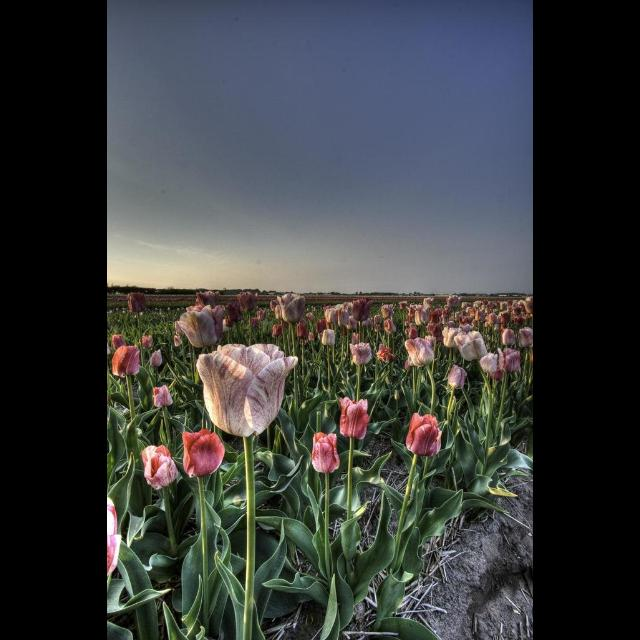Flower: (403, 294, 533, 381), (197, 342, 299, 432), (307, 295, 397, 347), (172, 430, 225, 478), (141, 440, 179, 488), (174, 308, 212, 352), (406, 413, 444, 455), (340, 398, 370, 446), (310, 431, 340, 474), (108, 497, 122, 579), (112, 340, 138, 380), (280, 292, 306, 322), (352, 342, 376, 366), (125, 292, 147, 316), (237, 290, 257, 316), (154, 387, 176, 409), (210, 304, 224, 338), (449, 364, 467, 390), (378, 348, 396, 364), (272, 299, 286, 319), (139, 334, 153, 352), (151, 349, 165, 365), (296, 326, 308, 344), (270, 324, 282, 338)
